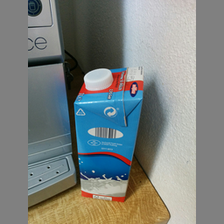milk: (73, 65, 144, 206)
